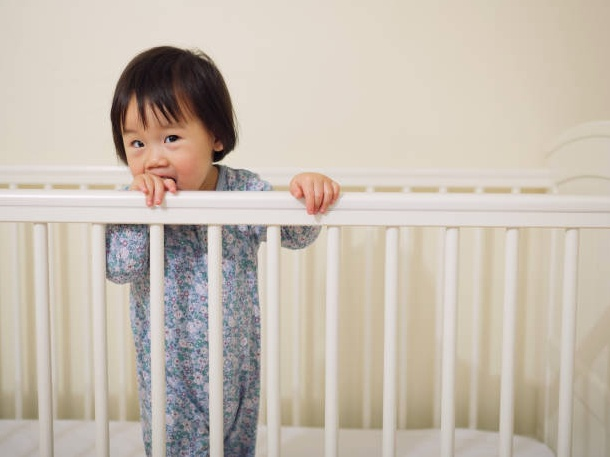baby: (164, 225, 208, 455)
crib: (0, 123, 609, 456)
